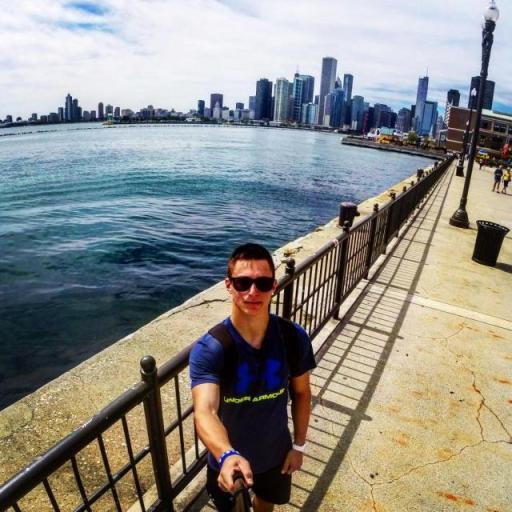Under Armour: (224, 357, 285, 404)
